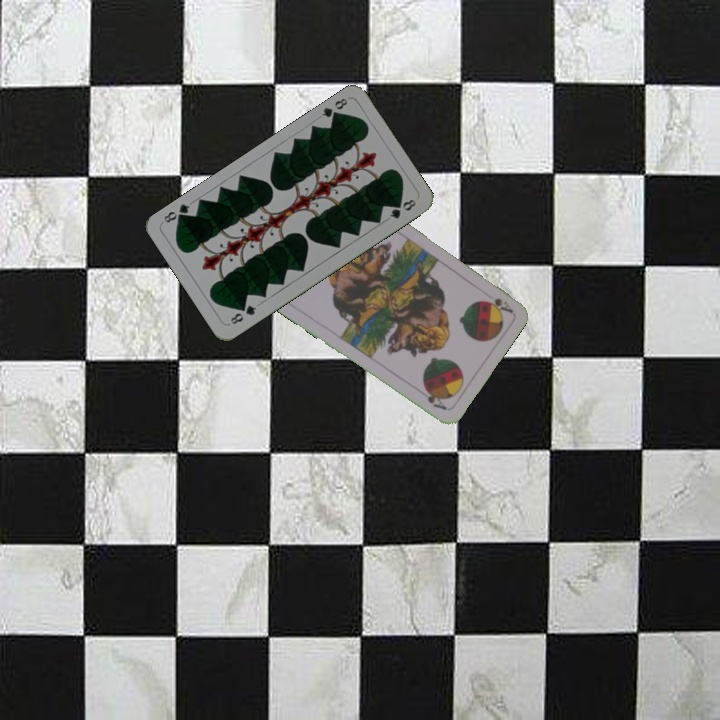G8: (317, 94, 350, 123), (226, 301, 259, 327)
SA: (483, 294, 515, 315)
